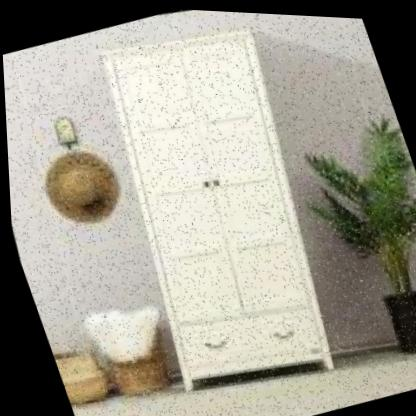Closet: (51, 2, 388, 416)
